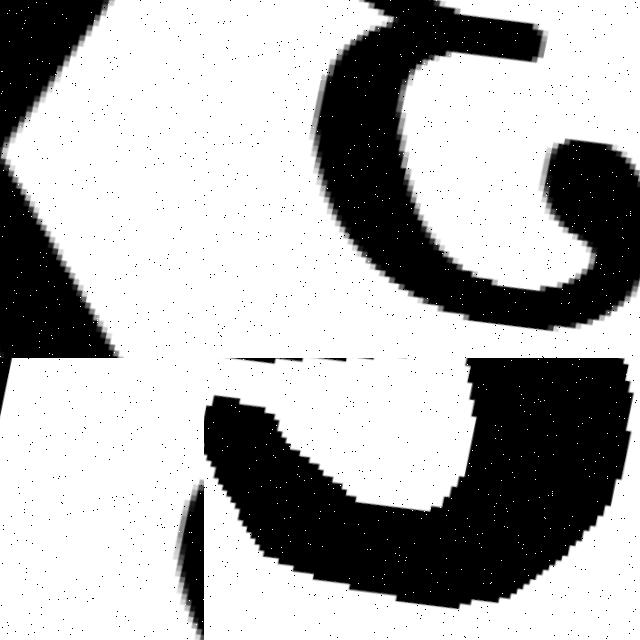3: (204, 0, 640, 358)
5: (9, 358, 204, 640)
E: (204, 358, 632, 616)
X: (0, 0, 204, 358)
